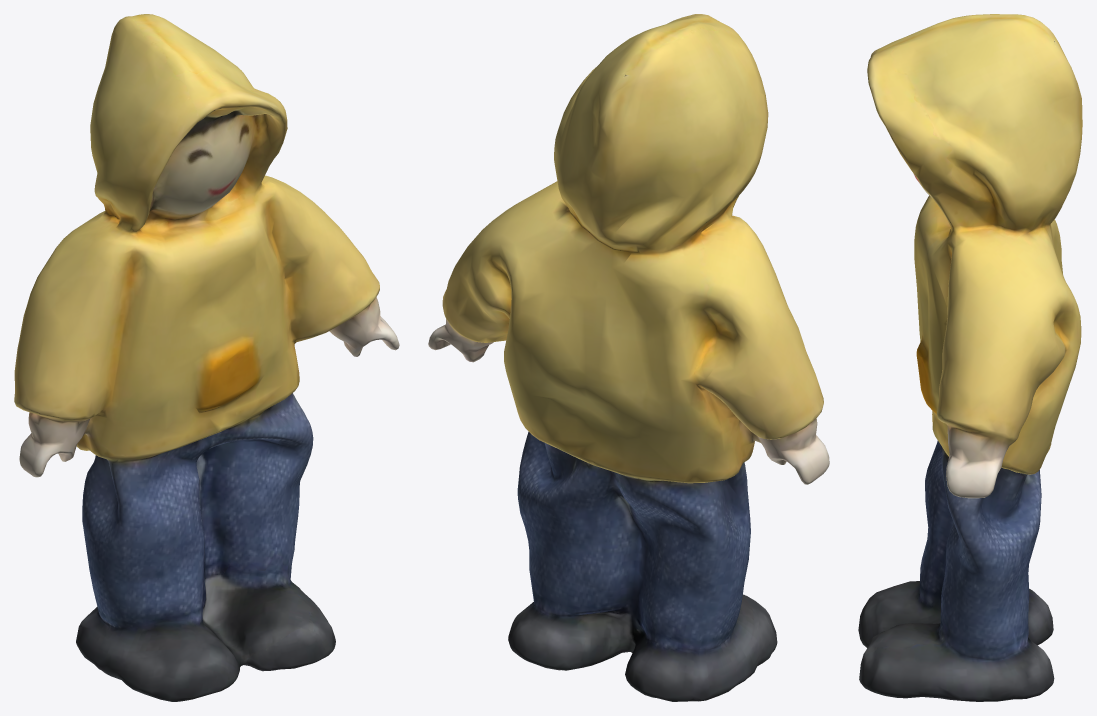
The model's file is doll.glb.
3 renders of one model, left to right at view 1: azimuth 30°, elevation 25°; view 2: azimuth 150°, elevation 25°; view 3: azimuth 270°, elevation 25°, orthographic. The views are drawn at different scales.
Visible parts, largest first — view 1: 3D_Dollhouse_Happy_Brother; view 2: 3D_Dollhouse_Happy_Brother; view 3: 3D_Dollhouse_Happy_Brother.
Part boxes in pixels (x1=…): 3D_Dollhouse_Happy_Brother: x1=14, y1=14, x2=399, y2=701; 3D_Dollhouse_Happy_Brother: x1=428, y1=14, x2=829, y2=701; 3D_Dollhouse_Happy_Brother: x1=858, y1=14, x2=1082, y2=701.
Size of the model in its own units: 0.0594 by 0.0955 by 0.0308.
1 material, 1 textured.
